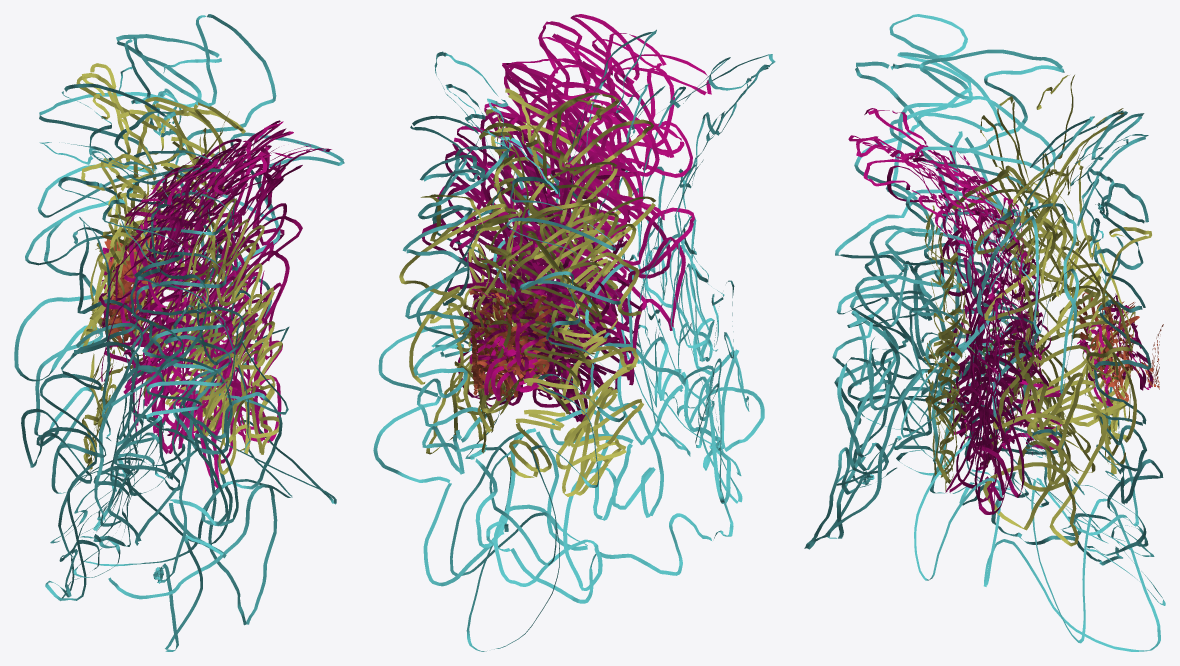
3 views of the same model, side by side, from view 1: azimuth 30°, elevation 25°; view 2: azimuth 150°, elevation 25°; view 3: azimuth 270°, elevation 25° (orthographic).
Parts seen in each view (by area): view 1: brush_DoubleTaperedFlat_g0_b0; view 2: brush_DoubleTaperedFlat_g0_b0; view 3: brush_DoubleTaperedFlat_g0_b0.
Boxes of the visible parts, x1,y1,x2,y2 form: brush_DoubleTaperedFlat_g0_b0: (14, 14, 344, 651); brush_DoubleTaperedFlat_g0_b0: (373, 14, 775, 651); brush_DoubleTaperedFlat_g0_b0: (804, 14, 1165, 651).
Bounding box in the file's own units: 1.15 × 1.86 × 1.09.
